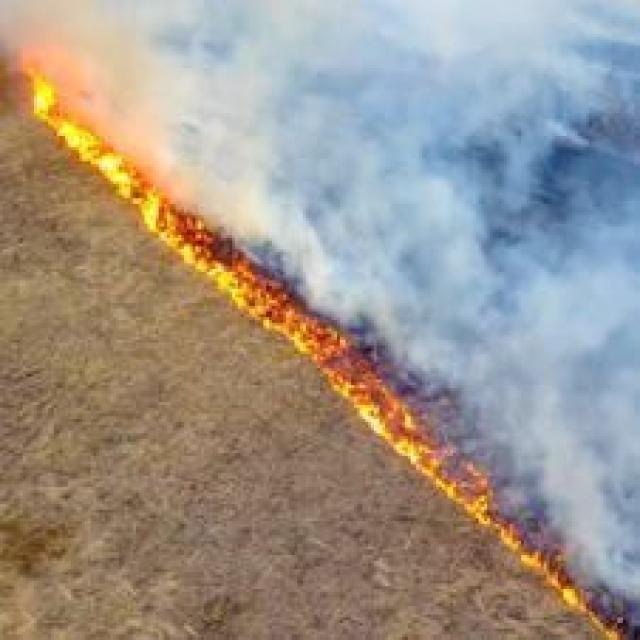Fire: (11, 40, 640, 640)
Smoke: (11, 0, 640, 628)
